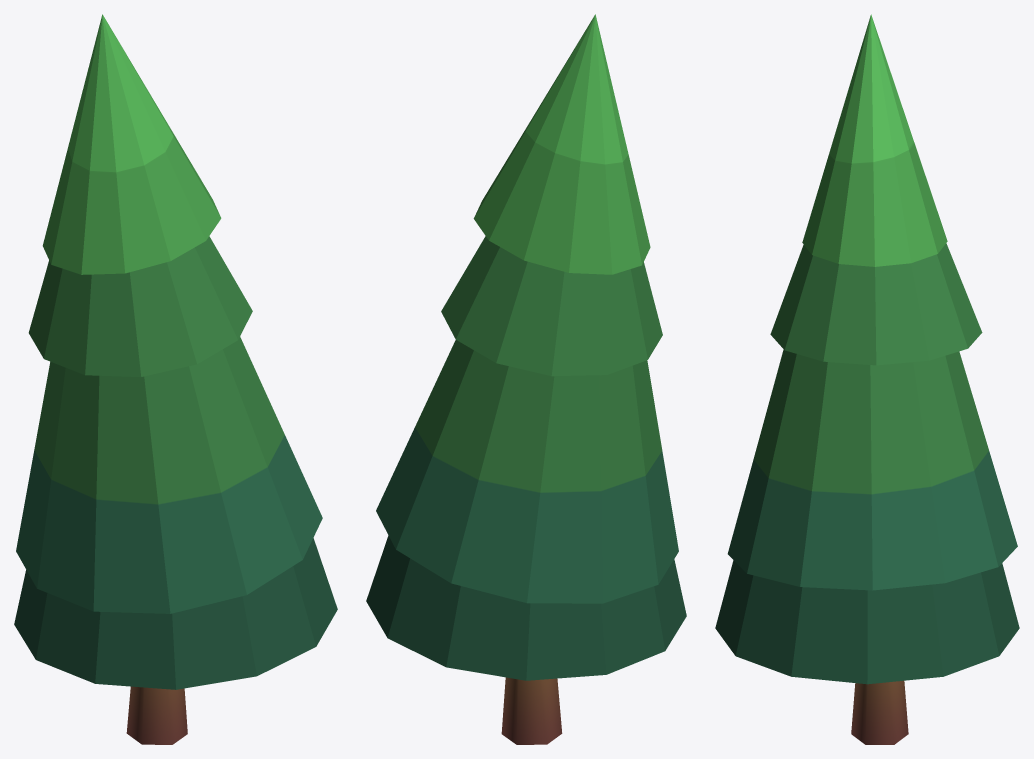
File: pine1.fbx
3 renders of one model, left to right at view 1: azimuth 30°, elevation 25°; view 2: azimuth 150°, elevation 25°; view 3: azimuth 270°, elevation 25°, orthographic. The views are drawn at different scales.
Parts seen in each view (by area): view 1: pine1.004; view 2: pine1.004; view 3: pine1.004.
Boxes of the visible parts, x1=… form: pine1.004: x1=14, y1=14, x2=337, y2=744; pine1.004: x1=366, y1=14, x2=686, y2=744; pine1.004: x1=715, y1=14, x2=1019, y2=744.
Size of the model in its own units: 395 by 995 by 396.
